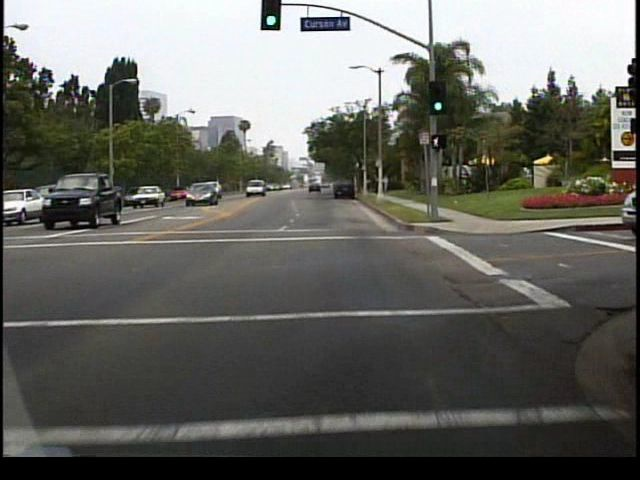person: (380, 172, 390, 194), (372, 176, 381, 200)
